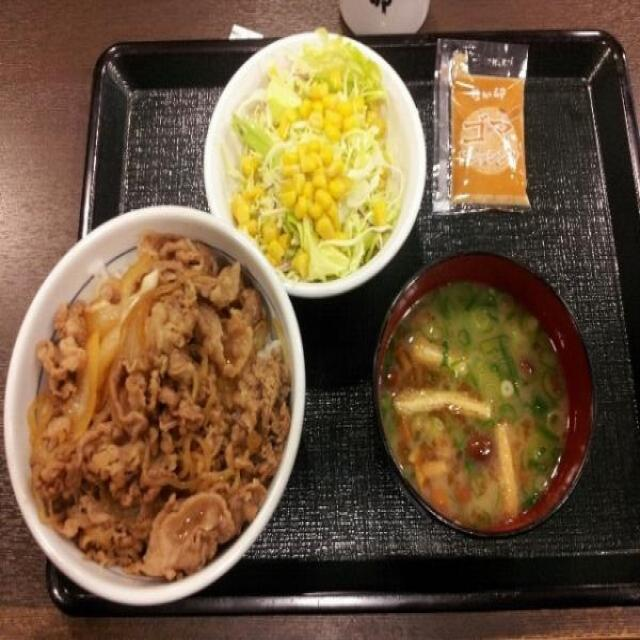Green Salad: (231, 30, 404, 282)
